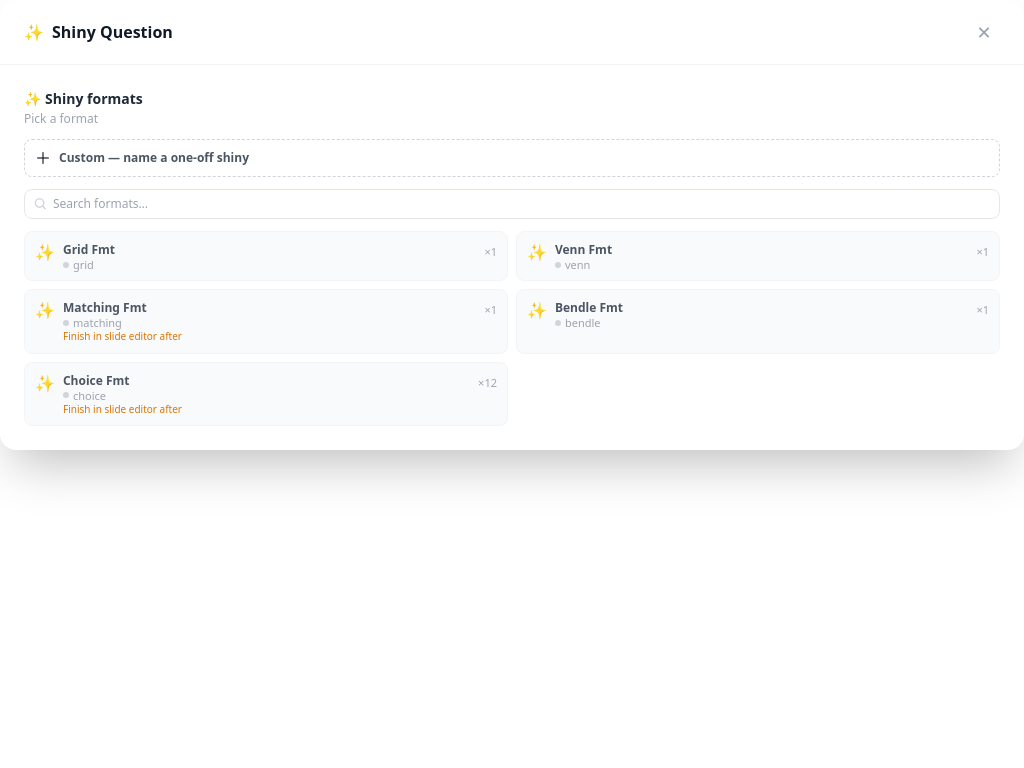
Test: AddSlideWizard shiny details — registry wiring › asks how many questions for a blank-shell kind (choice), defaulting to 1
The width and height of the screenshot is (1024, 768).
What coordinates should you click on to do the following:
click the button "✨ Choice Fmt choice Finish in slide editor after ×12"
I would click on:
 (96, 380)
Its box is [24,362,508,426].
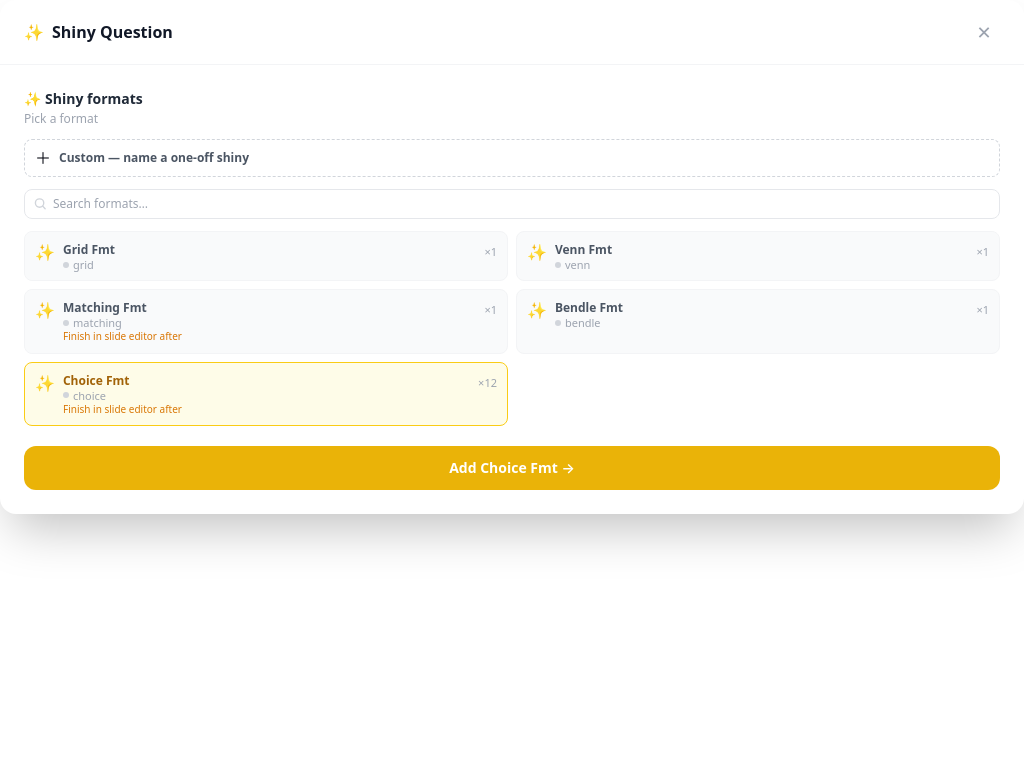
What coordinates should you click on to do the following:
click the button "Add Choice Fmt →"
I would click on:
 (512, 468)
Its box is [24,446,1000,490].
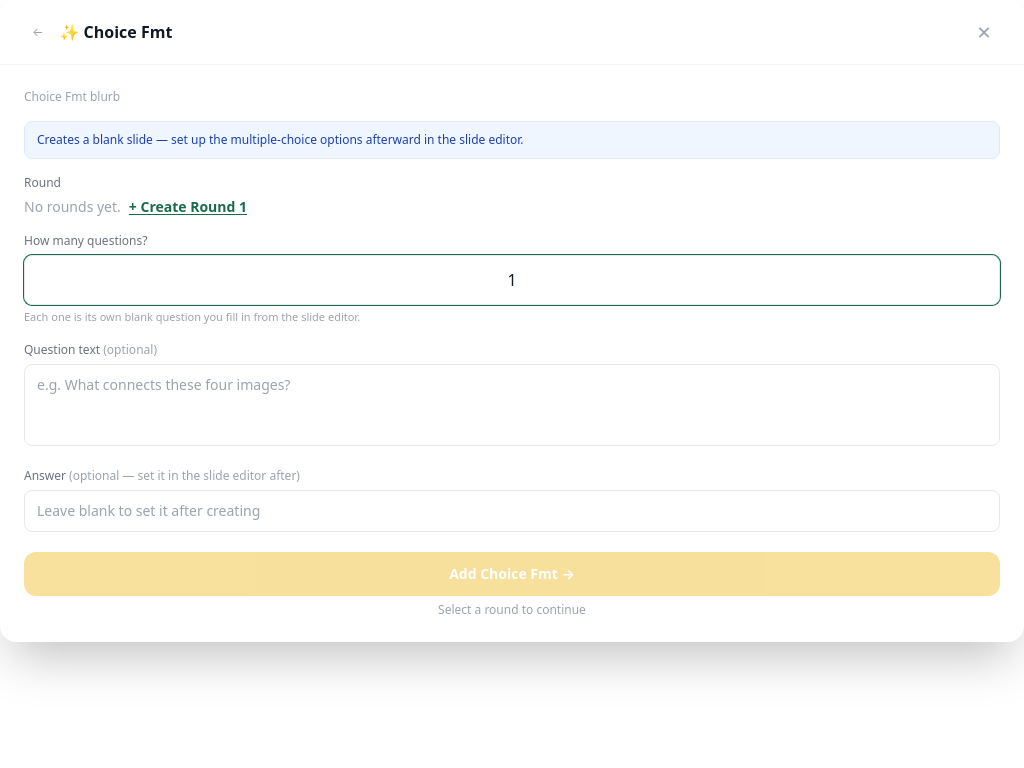
Expected: the text "How many questions?" is shown, [24,232,148,249]
Expected: the number field holds "1", [24,255,1000,305]
